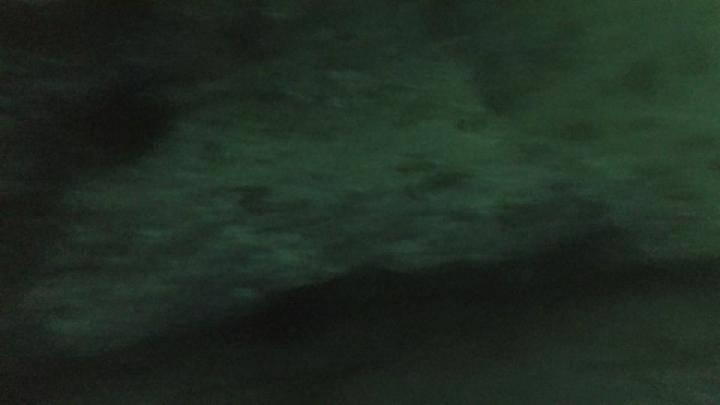echinus: (70, 75, 172, 171)
holothurian: (470, 45, 519, 117)
